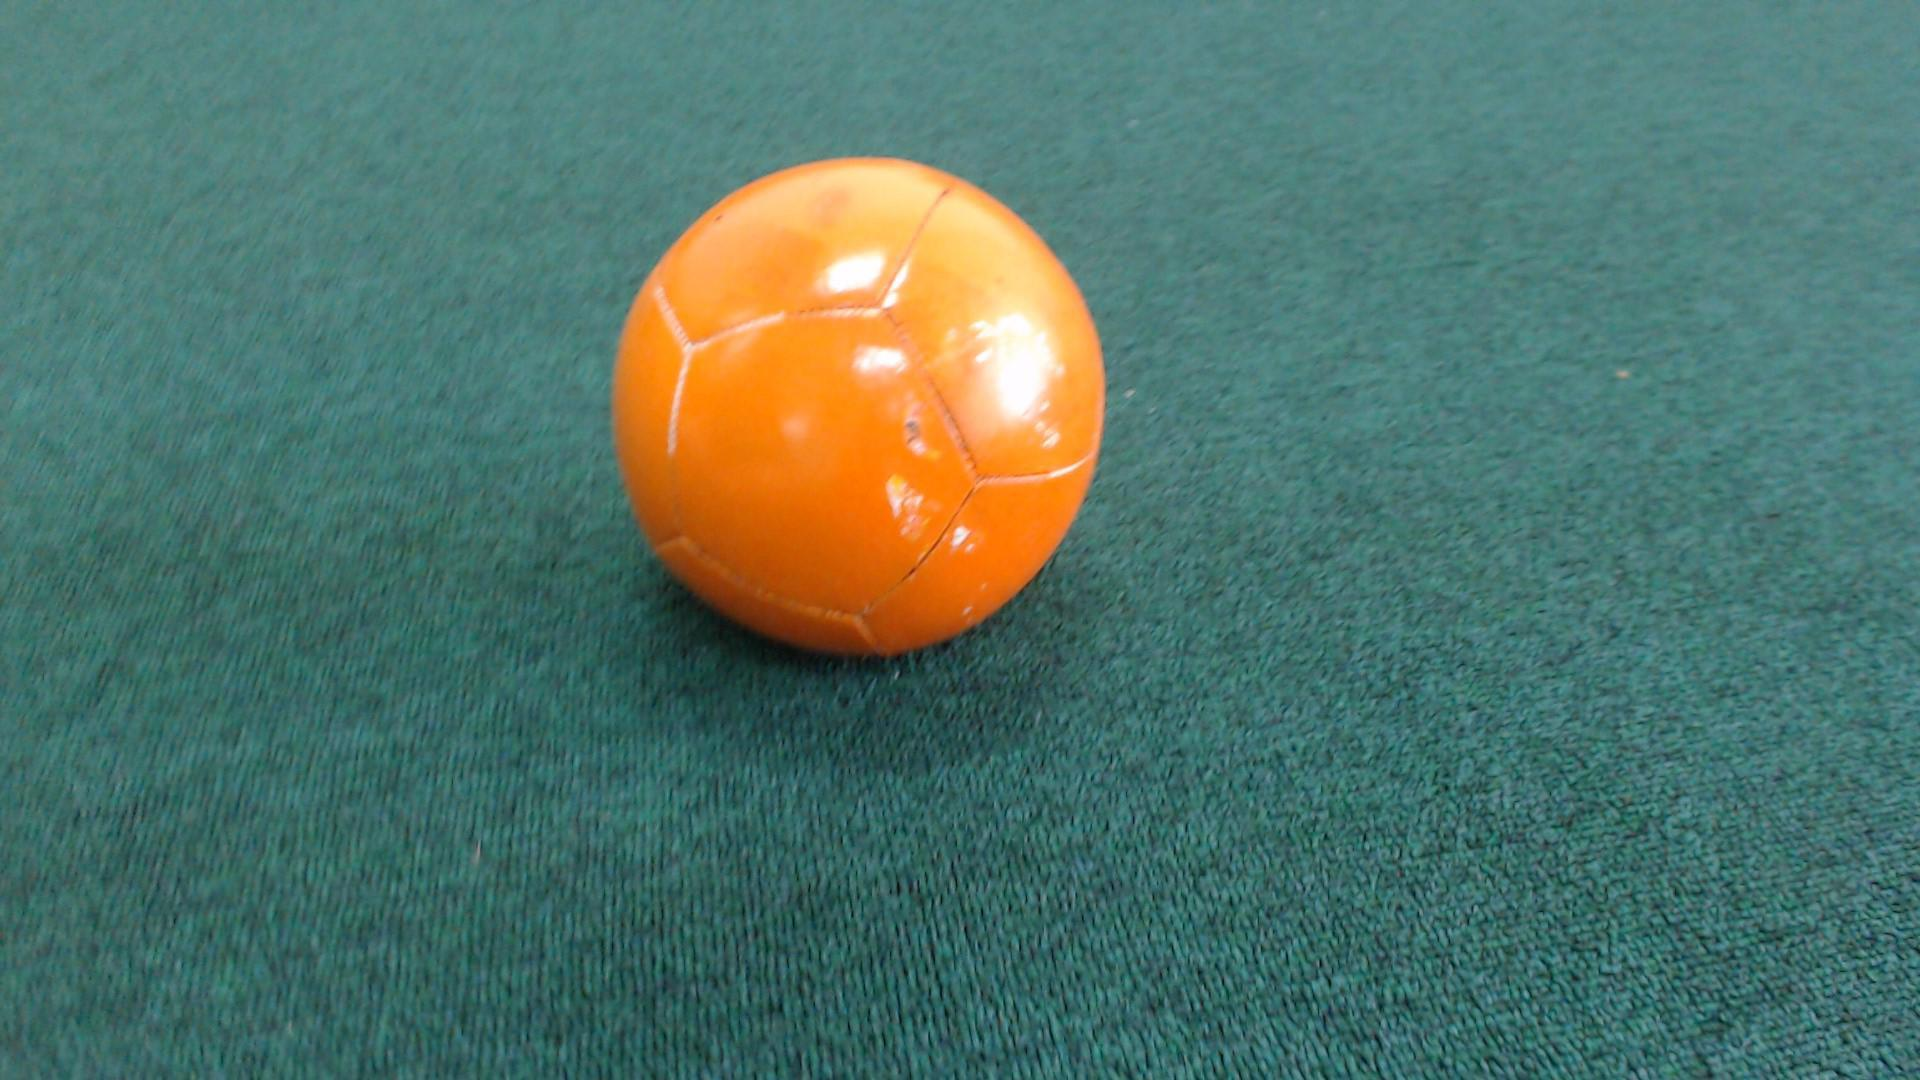bola: (571, 129, 1145, 684)
